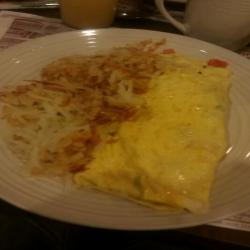omelette: (104, 64, 229, 217)
